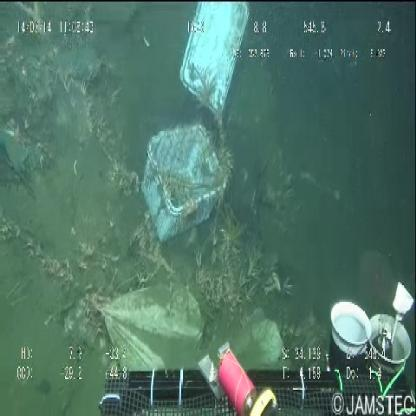Rov: (85, 263, 416, 416)
Rác: (138, 2, 259, 245)
